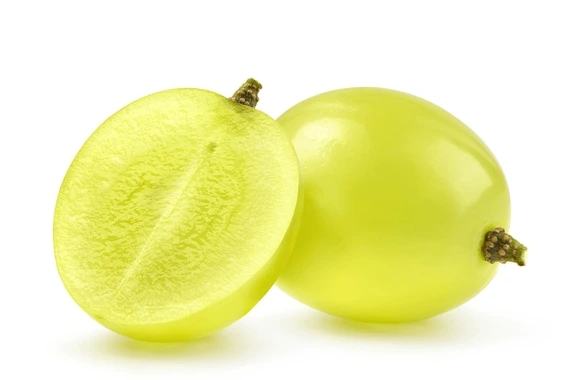grapes: (51, 61, 311, 332)
